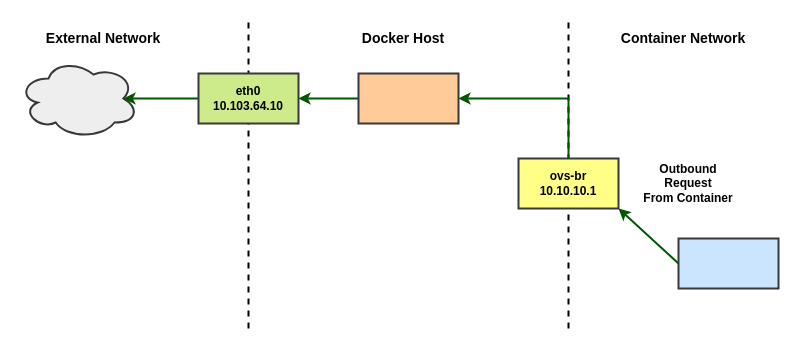
Some shapes in this 796 by 347 pixel diagram are drawn without their labels. Here are the shapes that lost their labels. From the top down, the centre of each, then its label:
[408,98]: NAT
[728,263]: busybox 10.10.10.2
